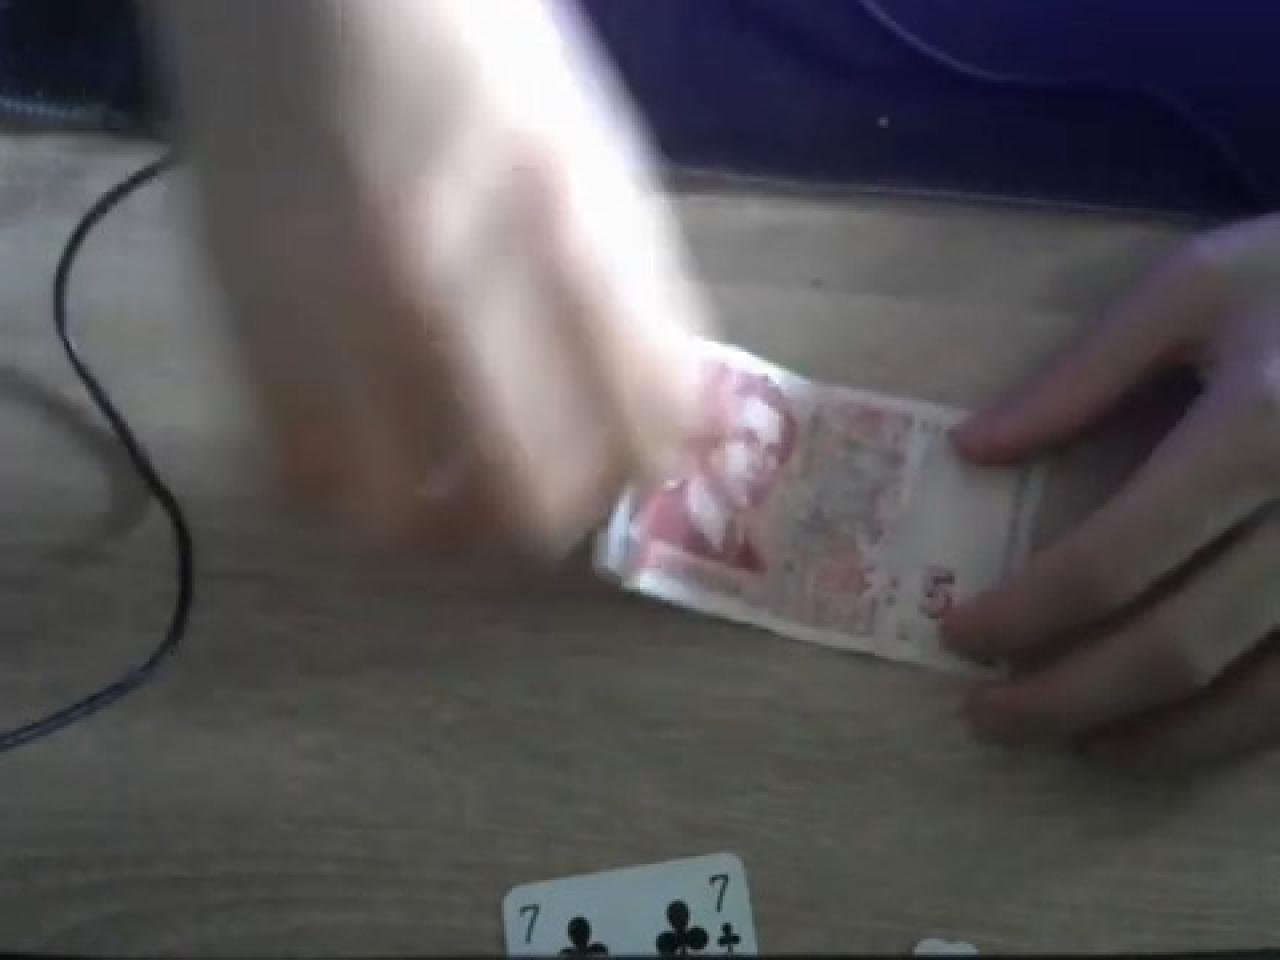5leva: (592, 349, 1152, 678)
